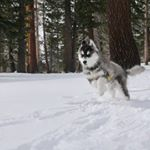puppy: (73, 35, 131, 102)
